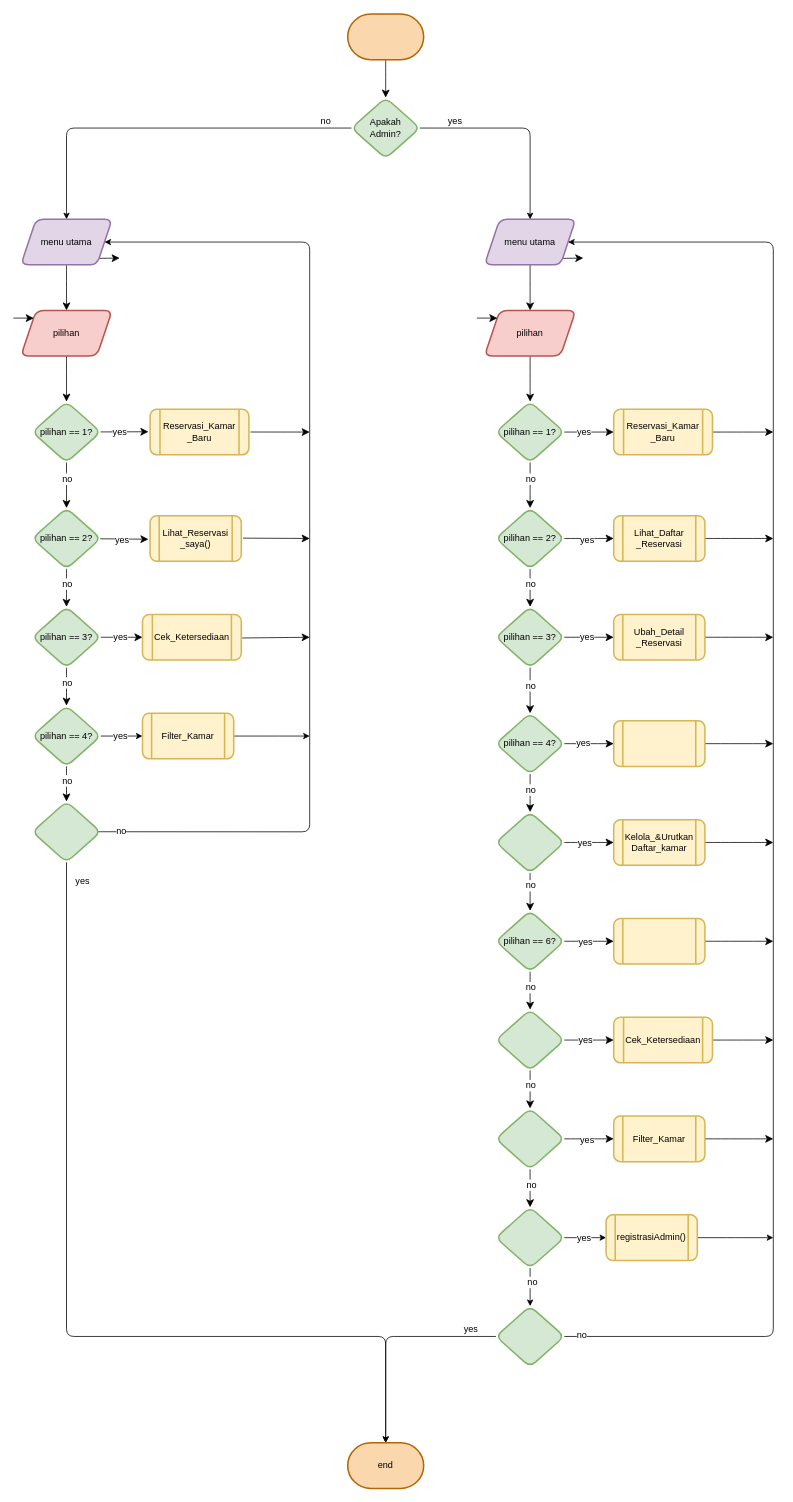
Some shapes in this 793 by 1502 pixel diagram are drawn without their labels. Each missing label, with the centre of its shape:
"Batalkan _Reservasi (checkout)" goes at (659,743).
"Cari_Data_Tamu" goes at (659,940).
"pilihan == 0 ?" goes at (66,831).
"pilihan == 0?" goes at (530,1336).
"pilihan == 5?" goes at (530,842).
"pilihan == 7?" goes at (530,1040).
"pilihan == 8?" goes at (530,1138).
"pilihan == 9?" goes at (530,1237).
"start" goes at (385,36).
